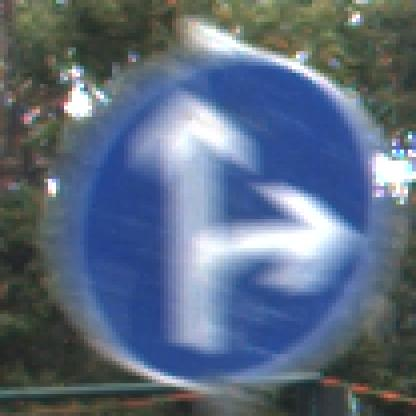Straight or Right: (37, 38, 377, 381)
